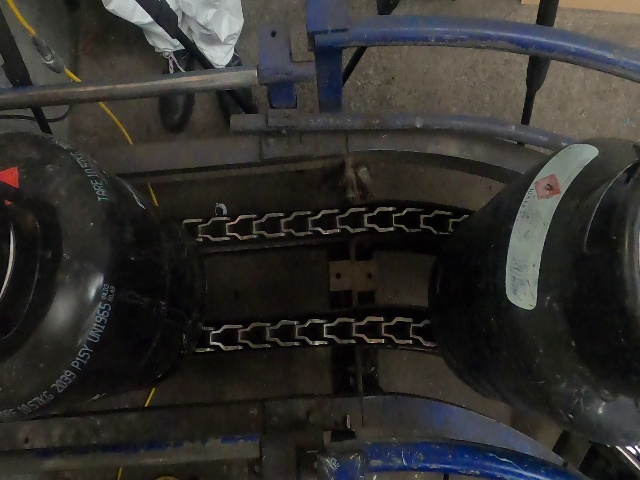gas_bottle: (13, 3, 627, 480)
